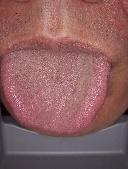tongue: (0, 56, 108, 135)
